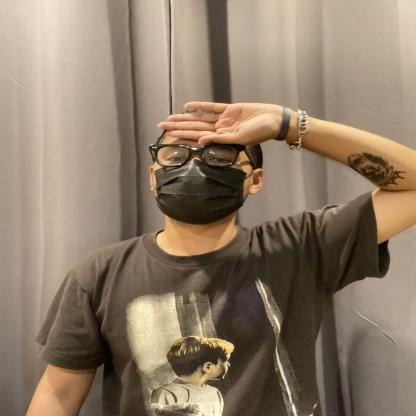Sick: (70, 81, 348, 218)
